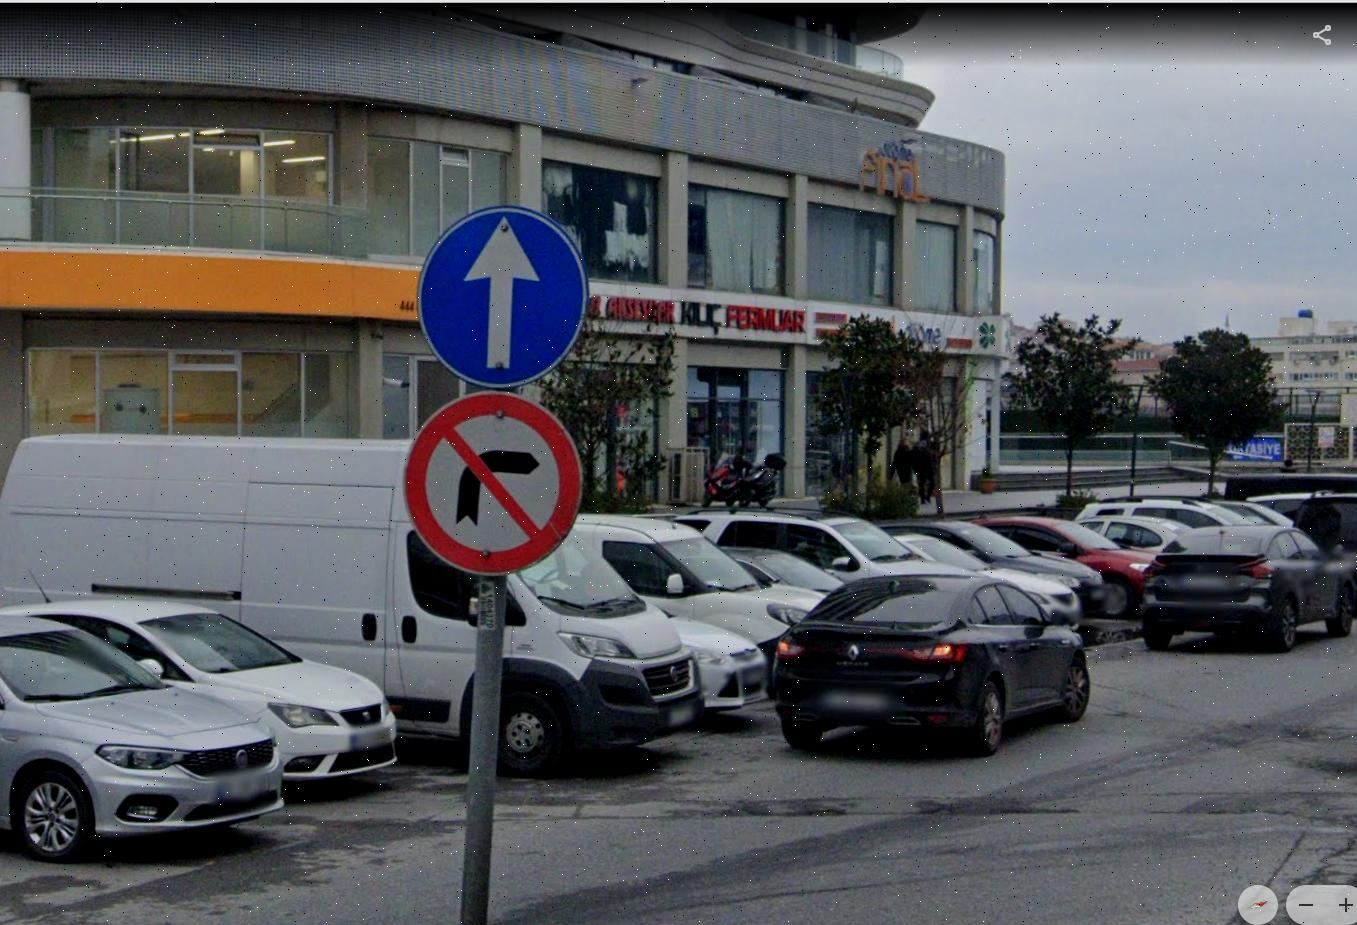forward: (429, 209, 577, 382)
rightturnsareforbidden: (403, 401, 583, 564)
